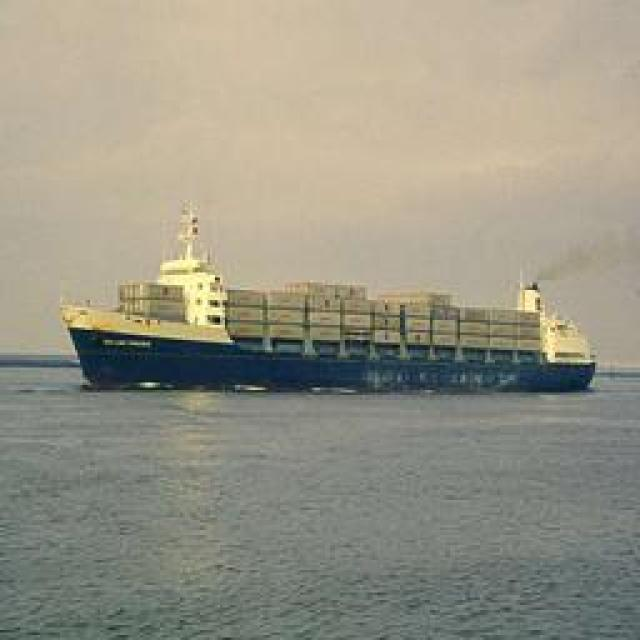CIV_Ship: (52, 210, 608, 398)
